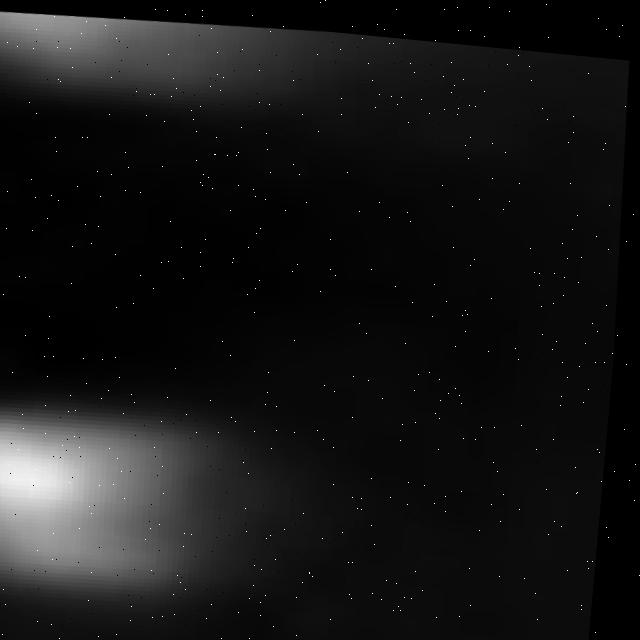person: (1, 393, 318, 601), (1, 1, 475, 133)
